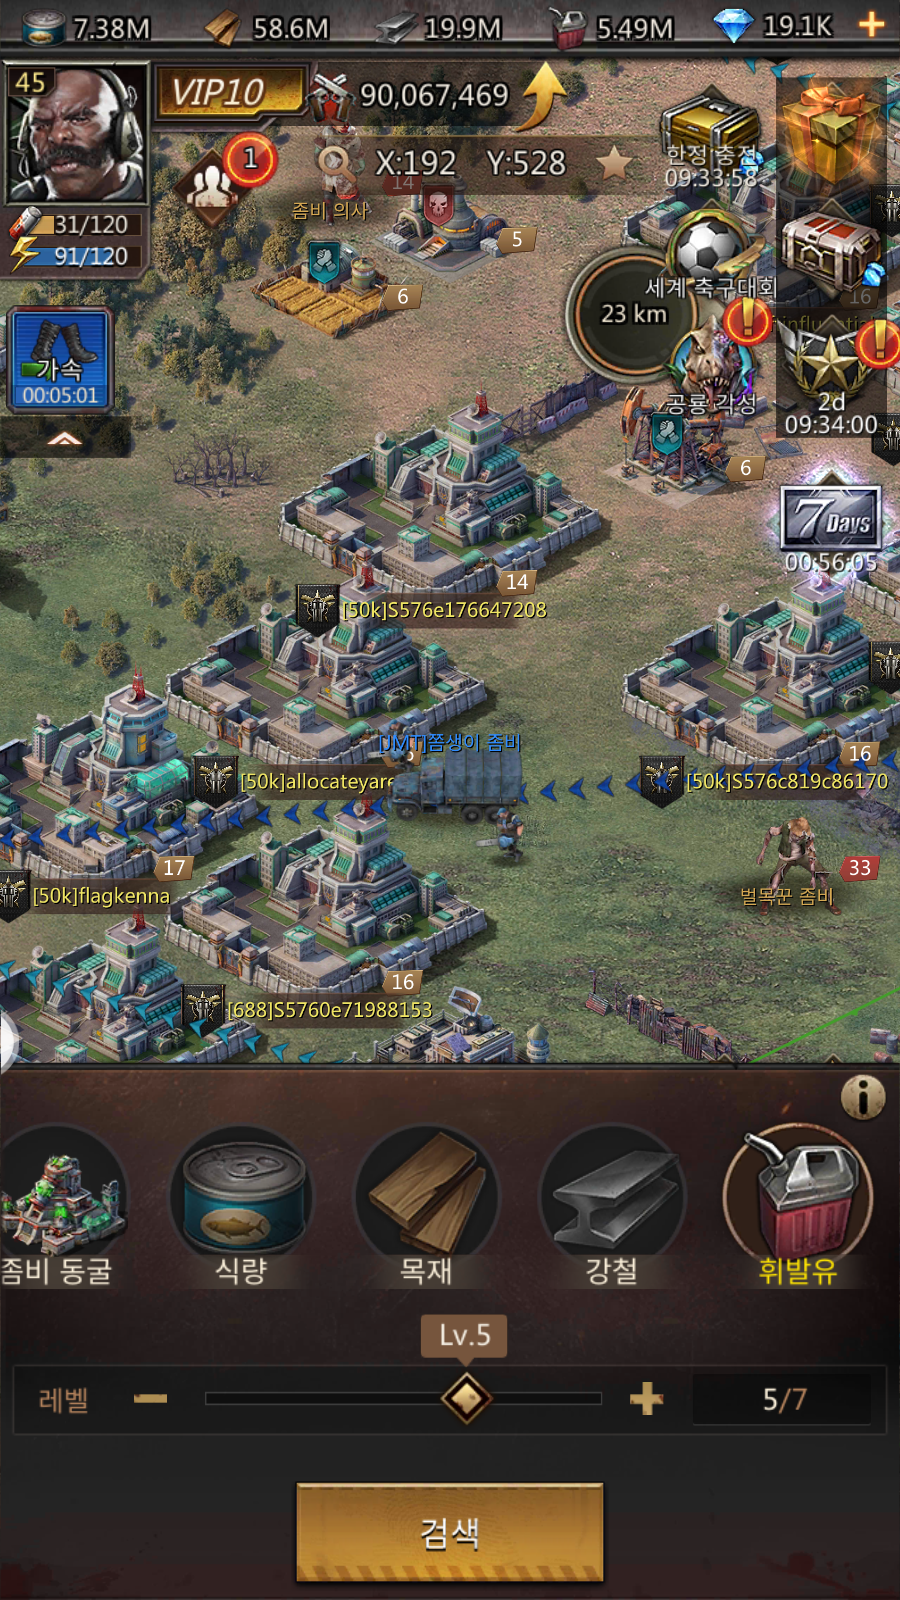rss_food_in_panel: (166, 1119, 324, 1298)
rss_gas_in_panel: (722, 1122, 878, 1293)
rss_lv5: (420, 1307, 510, 1356)
rss_minus_in_panel: (122, 1368, 178, 1420)
rss_plus_in_panel: (616, 1373, 671, 1425)
rss_search_in_panel: (298, 1485, 602, 1580)
rss_steel_in_panel: (544, 1120, 678, 1285)
rss_wood_in_panel: (359, 1122, 500, 1291)
troops_cnt_1: (146, 119, 297, 246)
